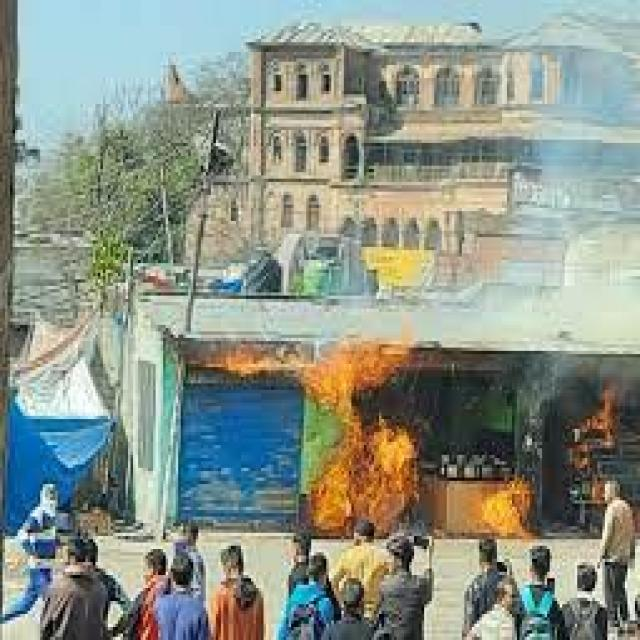fire: (193, 338, 429, 529), (474, 481, 542, 542)
smoke: (238, 58, 640, 332)
